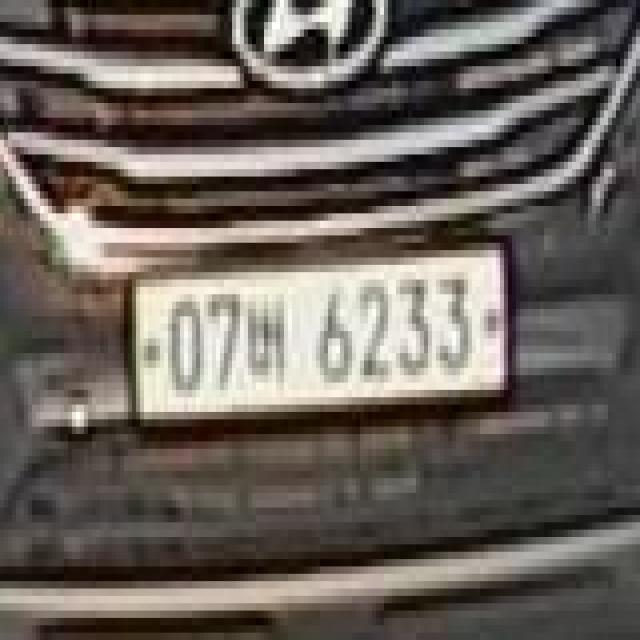illegal_plate: (124, 243, 514, 434)
